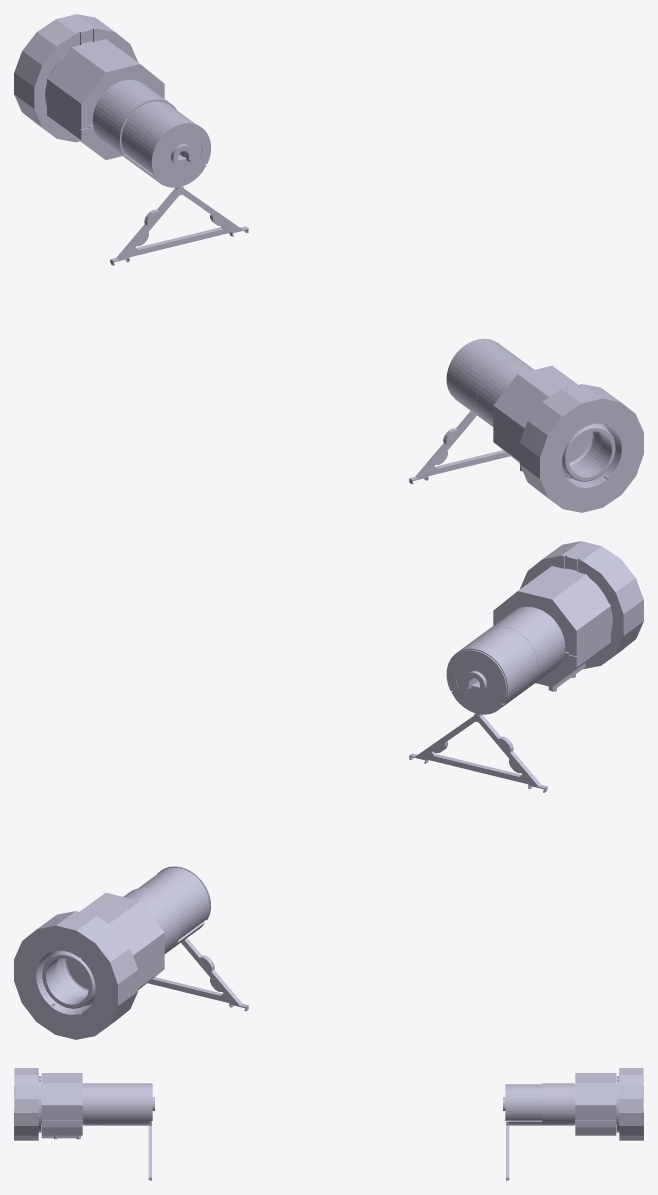
Rendered from Forward-Shielding.gltf.
3 views of the same model, one above another, from view 1: azimuth 30°, elevation 25°; view 2: azimuth 150°, elevation 25°; view 3: azimuth 270°, elevation 25° (orthographic). The views are drawn at different scales.
Parts seen in each view (by area): view 1: _045D1DB8; view 2: _045D1DB8; view 3: _045D1DB8.
Boxes of the visible parts, x1,y1,x2,y2 form: _045D1DB8: [14, 14, 643, 512]; _045D1DB8: [14, 541, 643, 1039]; _045D1DB8: [14, 1068, 643, 1180].
Bounding box in the file's own units: 6.83 × 7.18 × 46.04.
